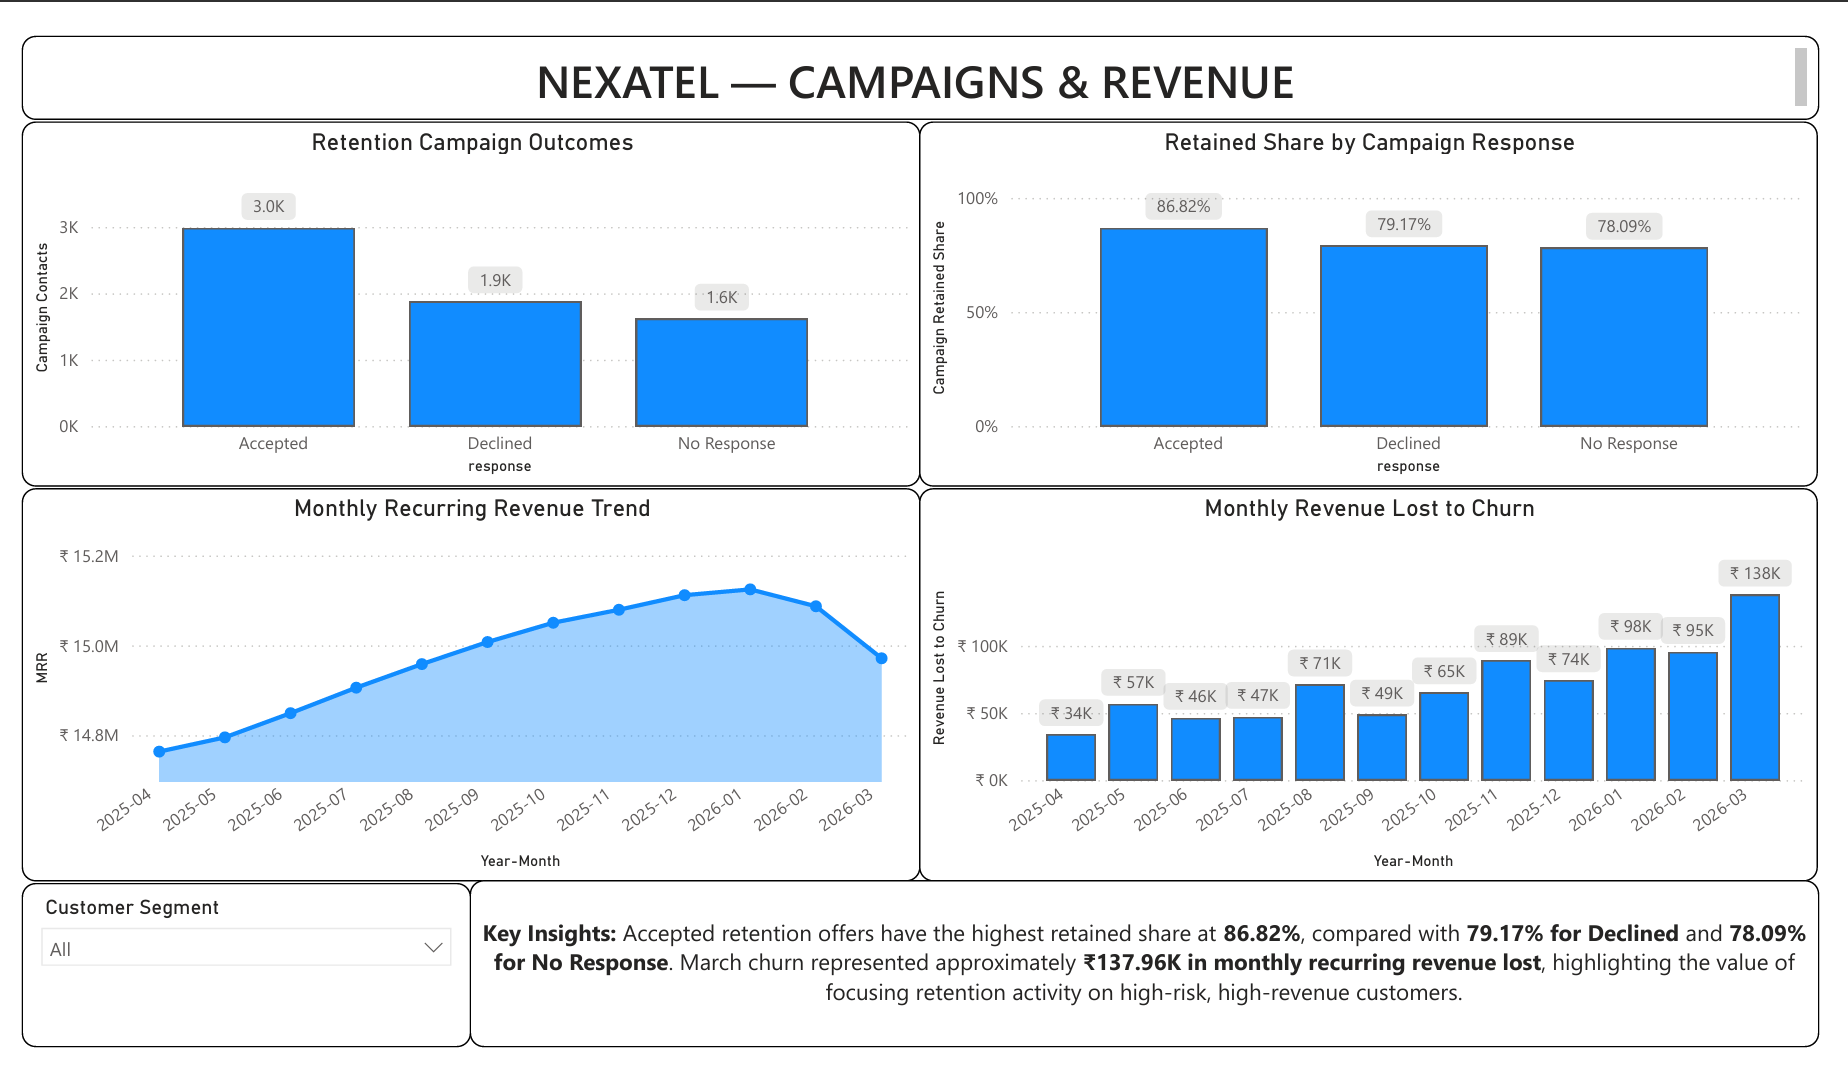

Layout of this report page (visuals, bound fields, positions):
{"tool":"powerbi","page":{"name":"Campaigns & Revenue","canvas":[1280,720],"ordinal":4},"visuals":[{"type":"textbox","box":[0,0,1280,60],"z":0},{"type":"clusteredColumnChart","title":"Retention Campaign Outcomes","fields":{"Category":["retention_campaigns_clean.response"],"Y":["KPI_Measures.Campaign Contacts"]},"box":[0,60.7,640,260],"z":1000},{"type":"clusteredColumnChart","title":"Retained Share by Campaign Response","fields":{"Category":["retention_campaigns_clean.response"],"Y":["KPI_Measures.Campaign Retained Share"]},"box":[639,60.7,640,260],"z":2000},{"type":"lineChart","title":"Monthly Recurring Revenue Trend","fields":{"Category":["Date_Table.Year-Month"],"Y":["KPI_Measures.MRR"]},"box":[0,321.5,640,280],"z":3000},{"type":"clusteredColumnChart","title":"Monthly Revenue Lost to Churn","fields":{"Category":["Date_Table.Year-Month"],"Y":["KPI_Measures.Revenue Lost to Churn"]},"box":[639,321.5,640,280],"z":4000},{"type":"textbox","box":[319.5,600.6,960.5,119.3],"z":5000},{"type":"slicer","fields":{"Values":["customers_clean.customer_segment"]},"box":[0,602.6,320.2,116.9],"z":6000}]}

Visuals, with their boxes on the page's 1280x720 design canvas (x1, y1, x2, y2). These are canvas units, not pixel positions in the 1848x1076 screenshot, which may show the page scaled, cropped or inside an application window:
textbox: x1=0 y1=0 x2=1280 y2=60
"Retention Campaign Outcomes" clusteredColumnChart: x1=0 y1=61 x2=640 y2=321
"Retained Share by Campaign Response" clusteredColumnChart: x1=639 y1=61 x2=1279 y2=321
"Monthly Recurring Revenue Trend" lineChart: x1=0 y1=322 x2=640 y2=602
"Monthly Revenue Lost to Churn" clusteredColumnChart: x1=639 y1=322 x2=1279 y2=602
textbox: x1=320 y1=601 x2=1280 y2=720
slicer - customers_clean.customer_segment: x1=0 y1=603 x2=320 y2=720
